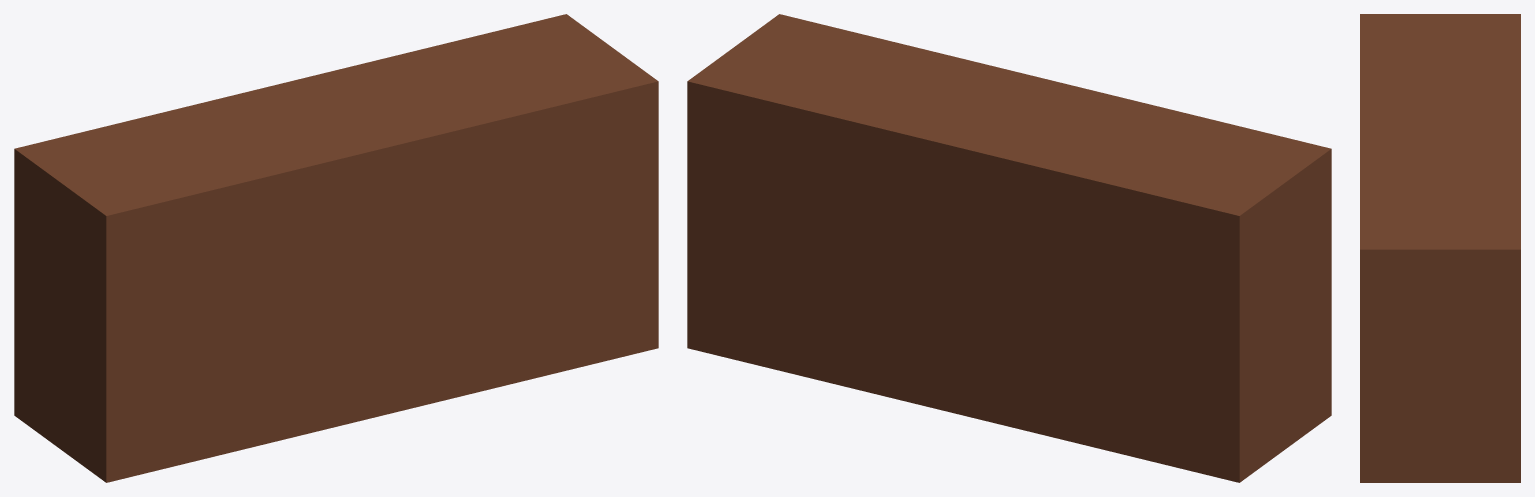
File: _wooden_wall_t.glb
The picture shows the model from 3 angles, left to right: view 1: azimuth 30°, elevation 25°; view 2: azimuth 150°, elevation 25°; view 3: azimuth 270°, elevation 25°; orthographic projection. The views are drawn at different scales.
Visible parts, largest first — view 1: WoodenWallHalfTall; view 2: WoodenWallHalfTall; view 3: WoodenWallHalfTall.
Part boxes in pixels (bbox=[...]): WoodenWallHalfTall: bbox=[14, 14, 658, 482]; WoodenWallHalfTall: bbox=[687, 14, 1331, 482]; WoodenWallHalfTall: bbox=[1360, 14, 1520, 482].
Bounding box in the file's own units: 1.73 × 0.8 × 0.5.
1 material, 1 textured.
